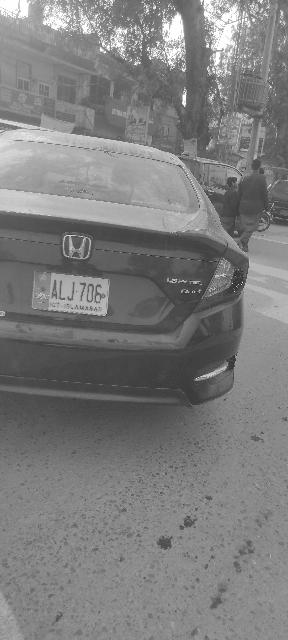Number: (49, 276, 105, 304)
